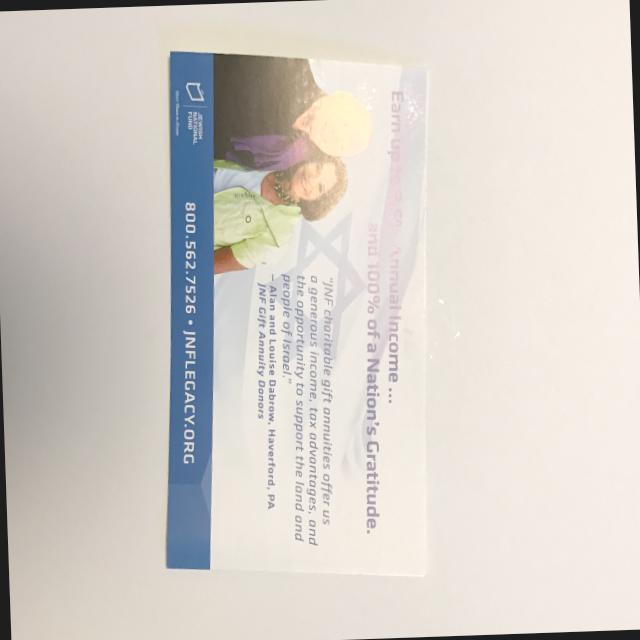Paper: (145, 39, 447, 582)
